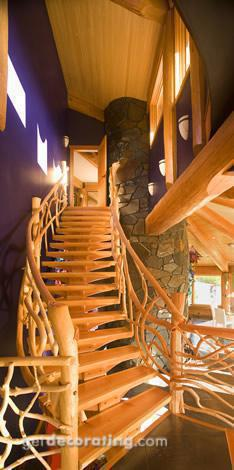Escaleras: (9, 181, 183, 454)
